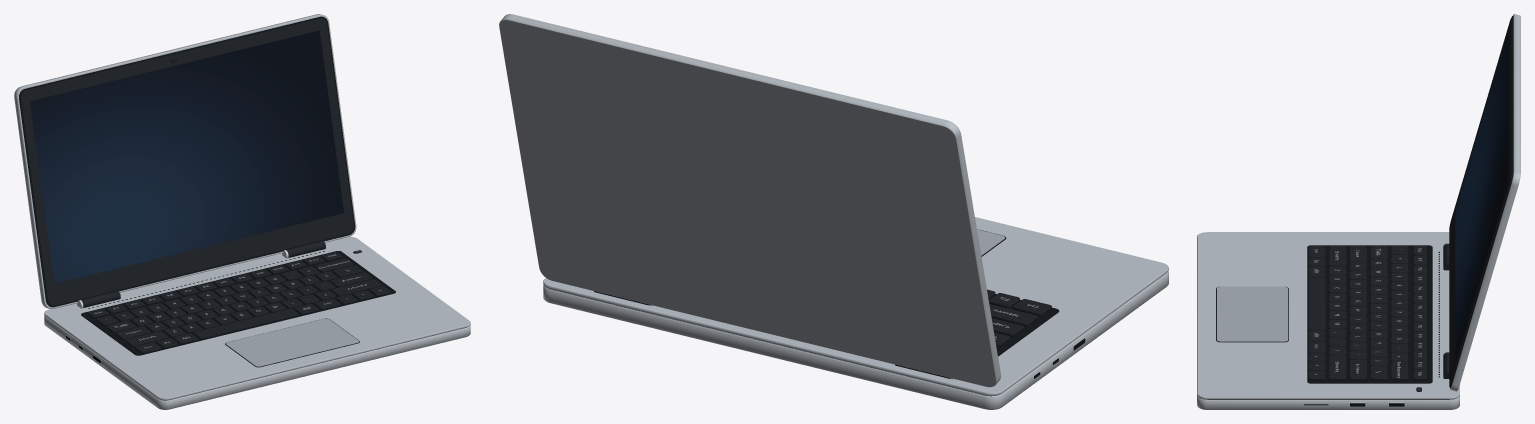
Rendered from generic-laptop.glb.
3 views of the same model, side by side, from view 1: azimuth 30°, elevation 25°; view 2: azimuth 150°, elevation 25°; view 3: azimuth 270°, elevation 25° (orthographic). The views are drawn at different scales.
Parts seen in each view (by area): view 1: Screen_Surface, Laptop_Base, Lid_Shell; view 2: Lid_Shell, Laptop_Base; view 3: Laptop_Base, Screen_Surface, Lid_Shell.
Boxes of the visible parts, x1,y1,x2,y2 form: Screen_Surface: (30, 30, 343, 283); Laptop_Base: (44, 236, 470, 409); Lid_Shell: (14, 14, 356, 309); Lid_Shell: (499, 14, 1000, 387); Laptop_Base: (543, 217, 1168, 409); Laptop_Base: (1197, 232, 1459, 409); Screen_Surface: (1455, 31, 1508, 362); Lid_Shell: (1449, 14, 1520, 391).
Bounding box in the file's own units: 0.3508 × 0.2323 × 0.2894.
Materials: 8 (2 with a texture image).
